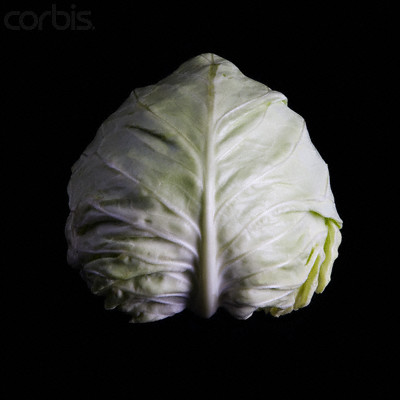cabbage: (65, 52, 342, 324)
